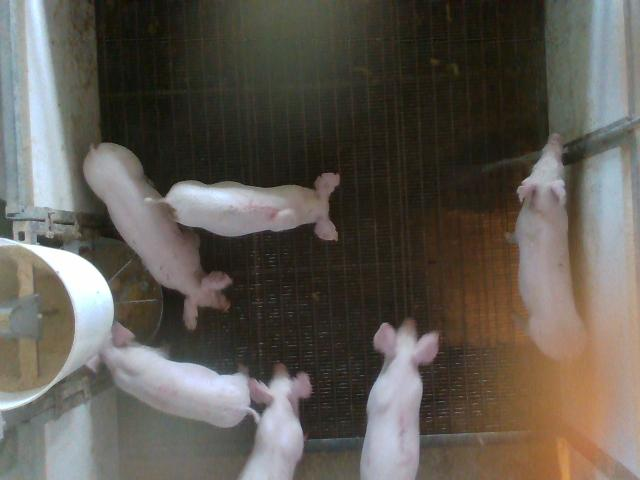pig-3: (360, 318, 439, 478)
pig-4: (86, 321, 258, 428)
pig-5: (164, 172, 340, 239)
